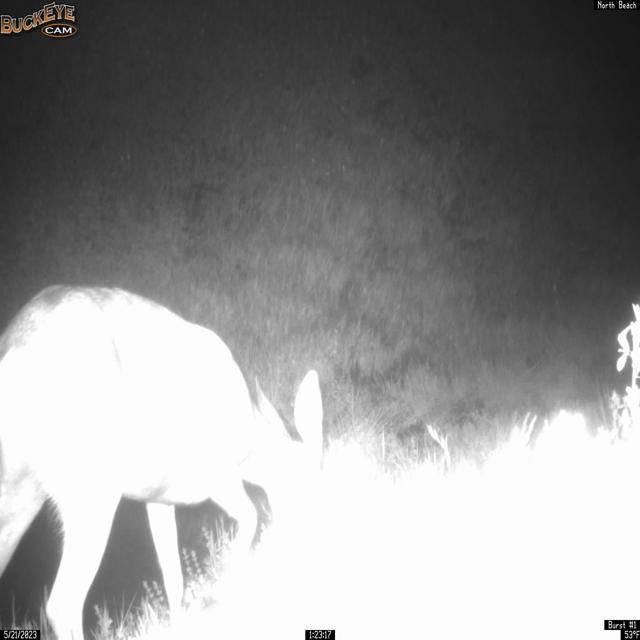deer: (0, 282, 325, 640)
